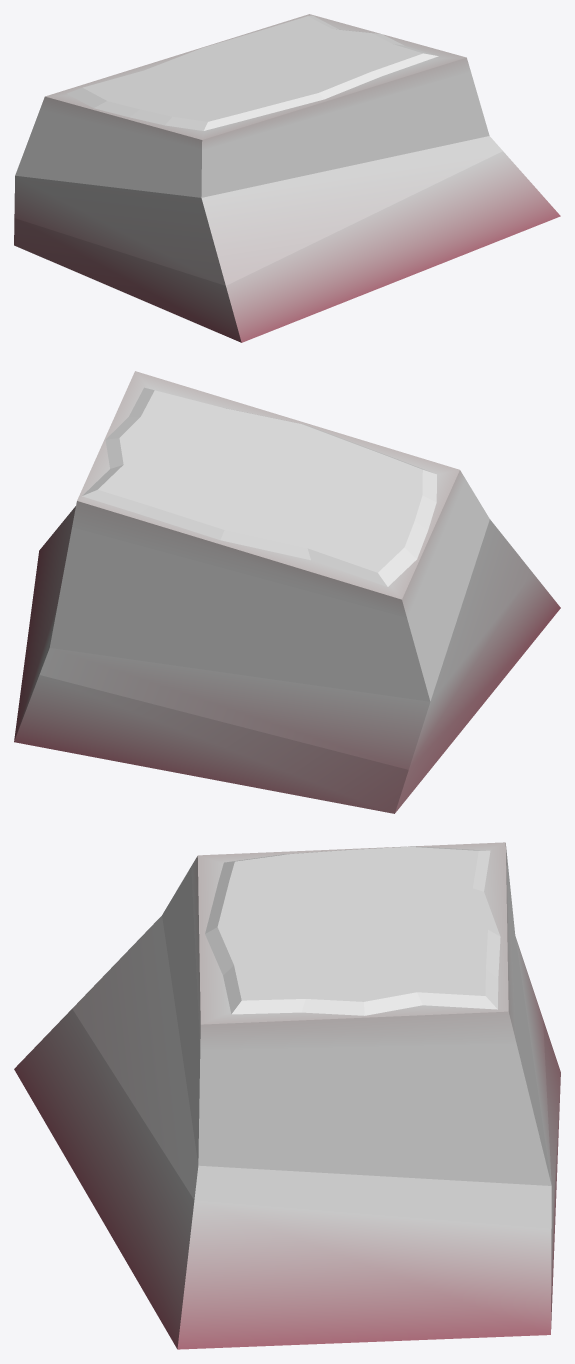
Rendered from rock_01_garden.fbx.
3 renders of one model, top to bottom at view 1: azimuth 30°, elevation 25°; view 2: azimuth 150°, elevation 25°; view 3: azimuth 270°, elevation 25°, orthographic. The views are drawn at different scales.
Parts seen in each view (by area): view 1: GardenRock, GardenRockSand; view 2: GardenRock, GardenRockSand; view 3: GardenRock, GardenRockSand.
Boxes of the visible parts, x1=… form: GardenRock: x1=14, y1=14, x2=560, y2=342; GardenRockSand: x1=67, y1=15, x2=438, y2=130; GardenRock: x1=14, y1=371, x2=560, y2=813; GardenRockSand: x1=82, y1=387, x2=436, y2=586; GardenRock: x1=14, y1=842, x2=560, y2=1349; GardenRockSand: x1=205, y1=846, x2=500, y2=1015.
Bounding box in the file's own units: 1056 × 504 × 768.
